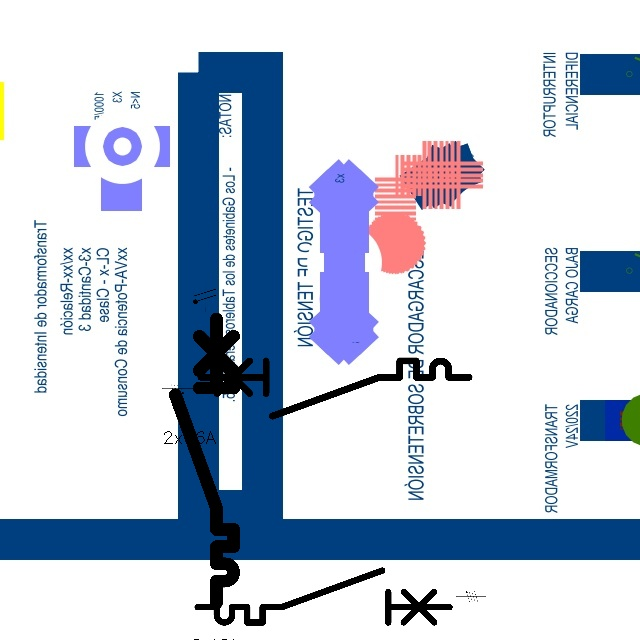interruptor_termomagnetico: (168, 311, 241, 609), (193, 354, 475, 423), (191, 564, 456, 629)
